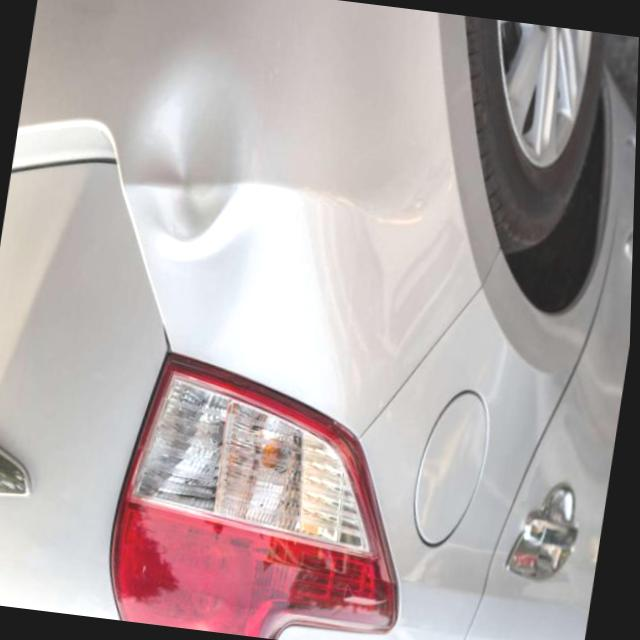Dent: (124, 47, 248, 244)
